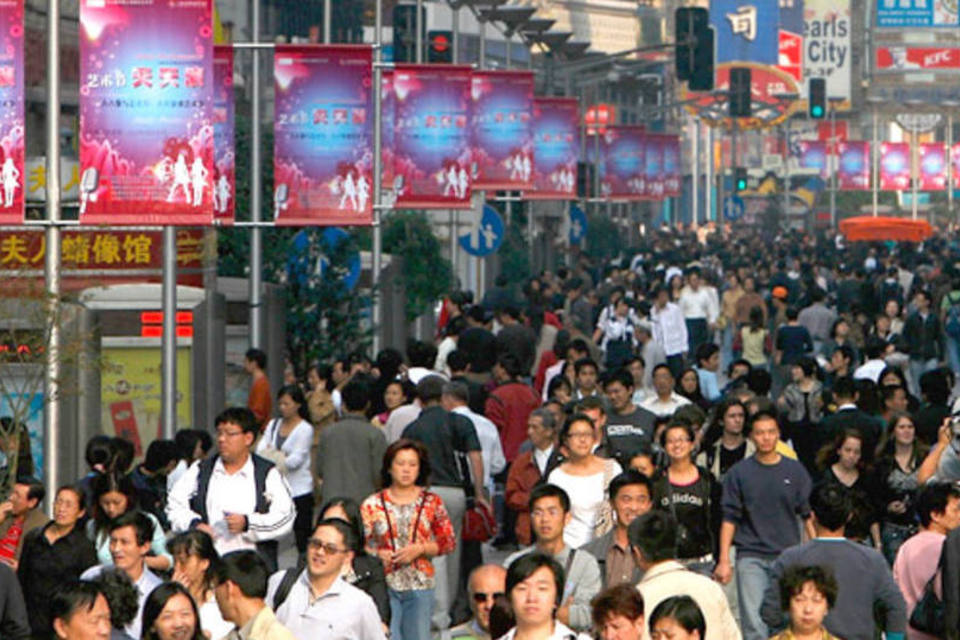Humano: (368, 445, 442, 640), (734, 407, 813, 555), (287, 525, 386, 640), (626, 505, 736, 607), (204, 405, 275, 551), (791, 478, 884, 567), (902, 480, 960, 610), (261, 385, 321, 506), (522, 478, 595, 572), (216, 536, 279, 640), (503, 546, 571, 640), (601, 473, 656, 588), (766, 564, 849, 640), (325, 383, 385, 488), (43, 480, 104, 579), (40, 573, 114, 640), (2, 461, 43, 581), (101, 515, 160, 595), (455, 558, 511, 640), (816, 423, 873, 497), (584, 579, 652, 640), (142, 571, 200, 640), (601, 367, 644, 452), (645, 590, 714, 640), (558, 409, 606, 480), (520, 403, 565, 478), (160, 526, 215, 586), (236, 346, 275, 427), (885, 407, 927, 480), (825, 378, 876, 434), (649, 360, 686, 422), (695, 342, 722, 402), (681, 358, 708, 413)
